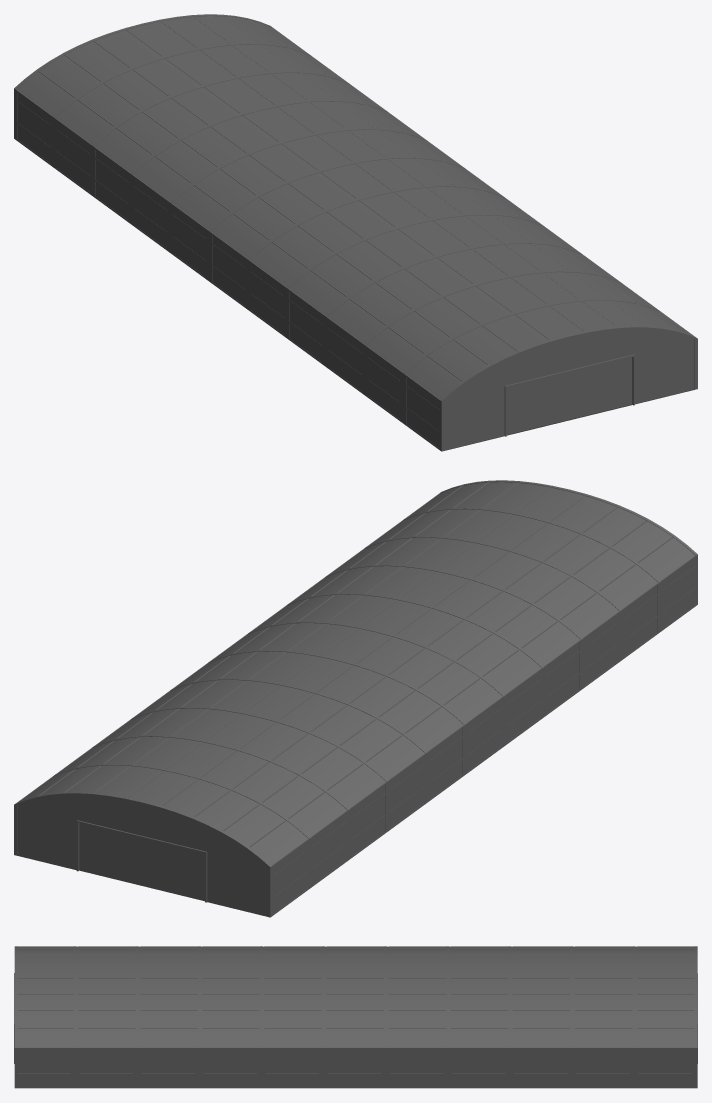
File: warehouse.fbx
The picture shows the model from 3 angles, top to bottom: view 1: azimuth 30°, elevation 25°; view 2: azimuth 150°, elevation 25°; view 3: azimuth 270°, elevation 25°; orthographic projection. The views are drawn at different scales.
Parts seen in each view (by area): view 1: NurbsPath.005; view 2: NurbsPath.005; view 3: NurbsPath.005.
Boxes of the visible parts, x1,y1,x2,y2 form: NurbsPath.005: [14, 14, 697, 451]; NurbsPath.005: [14, 480, 697, 917]; NurbsPath.005: [14, 946, 697, 1088].
Size of the model in its own units: 1600 by 502 by 4627.
3 materials, 1 textured.
